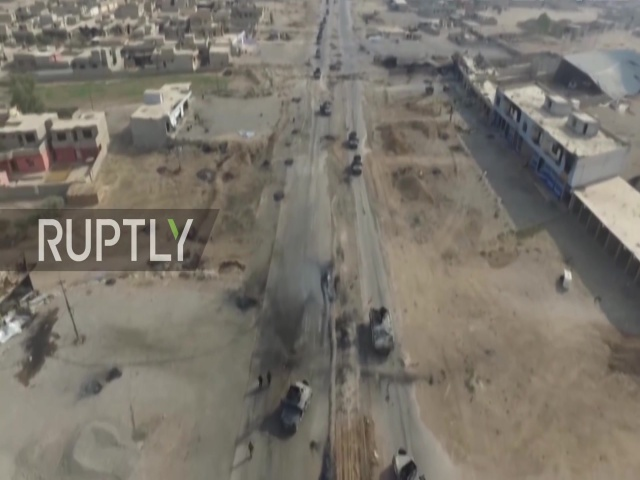vehicle: (272, 381, 313, 435), (367, 307, 394, 355), (389, 447, 426, 480), (350, 153, 364, 177), (347, 129, 360, 150), (320, 98, 333, 118)
